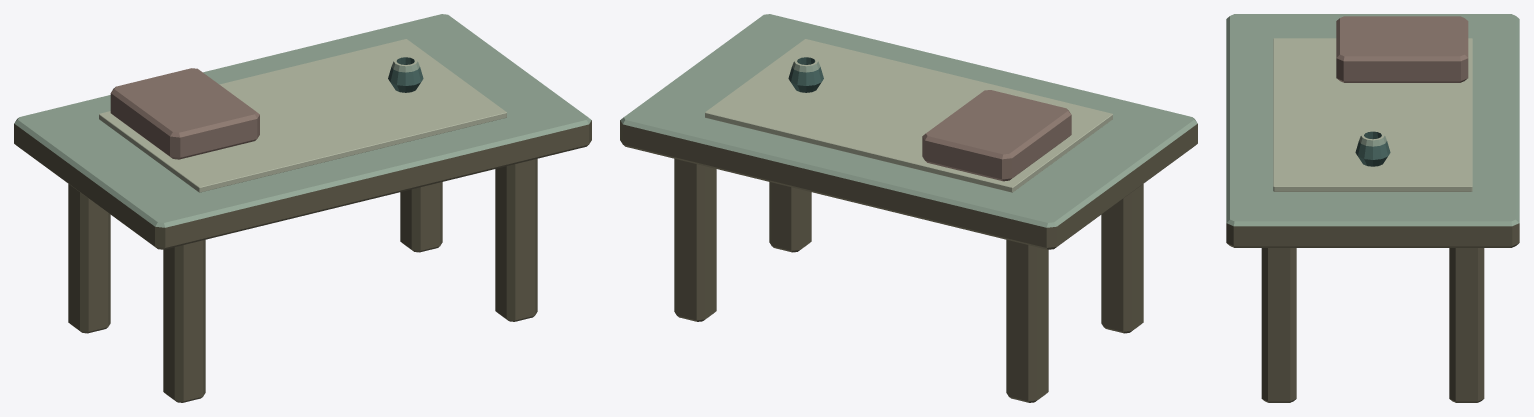
Rendered from reading-desk.glb.
The picture shows the model from 3 angles, left to right: view 1: azimuth 30°, elevation 25°; view 2: azimuth 150°, elevation 25°; view 3: azimuth 270°, elevation 25°; orthographic projection.
Visible parts, largest first — view 1: reading-desk__body; view 2: reading-desk__body; view 3: reading-desk__body.
Part boxes in pixels (x1,y1,x2,y2): reading-desk__body: (14, 14, 591, 402); reading-desk__body: (620, 14, 1197, 402); reading-desk__body: (1226, 14, 1519, 402).
Bounding box in the file's own units: 1.7 × 0.87 × 1.
